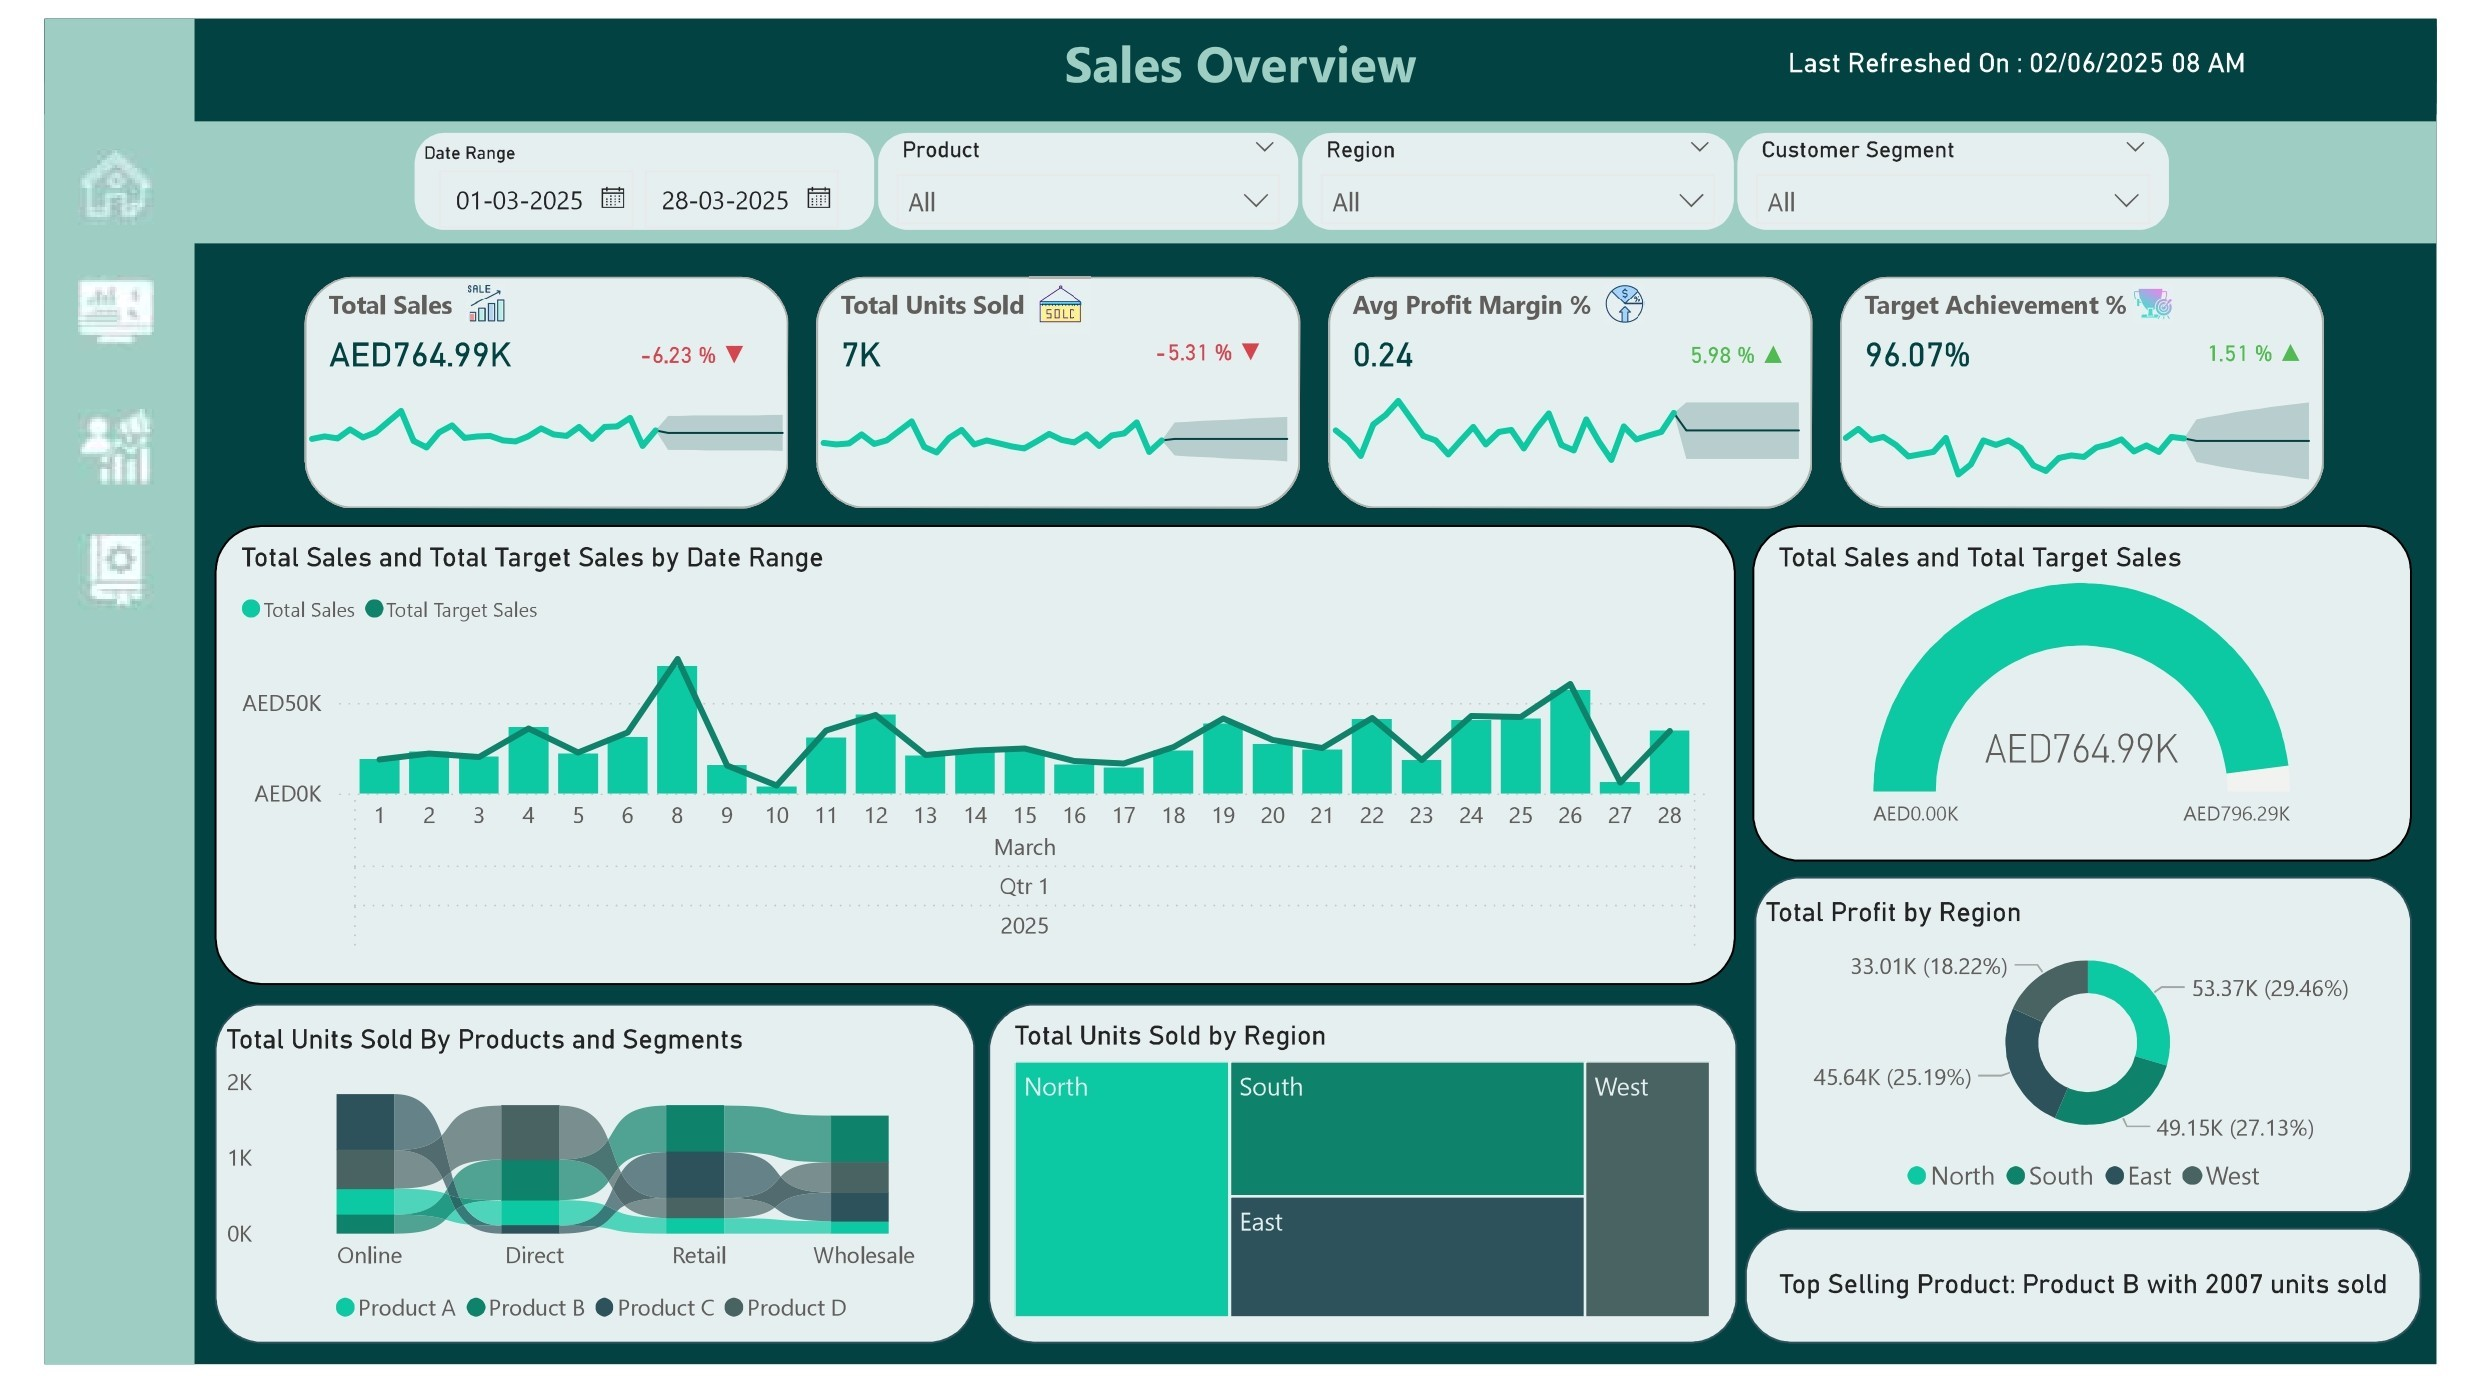

The dashboard page shown, as its layout file describes it:
{"tool":"powerbi","page":{"name":"Sales Overview","canvas":[1280,720],"ordinal":1},"visuals":[{"type":"shape","box":[78.3,55,1201.7,65],"z":0},{"type":"cardVisual","fields":{"Data":["_Measures.Total Sales","_Measures.Total Units Sold","_Measures.Avg Profit Margin","_Measures.Target Achievement %"]},"box":[134.1,132.7,1092,134],"z":0,"group":"g1"},{"type":"group","id":"g1","title":"Group 1","box":[128.4,132.7,1098.1,133.8],"z":1000},{"type":"card","fields":{"Values":["_Measures.Total Sales % Last X Change Icon"]},"box":[304.9,171.7,85.4,19.8],"z":1000,"group":"g1"},{"type":"slicer","title":"Region","fields":{"Values":["Dim_Regions.Region Name"]},"box":[672,60.4,233,53.9],"z":2000},{"type":"lineChart","fields":{"Category":["Dim_Date.Date.Variation.Date Hierarchy.Year"],"Y":["_Measures.Total Sales"]},"box":[128.4,186.3,281.6,64.2],"z":2000,"group":"g1"},{"type":"slicer","fields":{"Values":["Dim_Products.Product"]},"box":[445,60,227,54],"z":3000},{"type":"card","fields":{"Values":["_Measures.Total Units Sold % Last X Change Icon"]},"box":[580.5,170.9,85.4,21.2],"z":3000,"group":"g1"},{"type":"slicer","title":"Date Range","fields":{"Values":["Dim_Date.Date"]},"box":[197,60,248,54],"z":4000},{"type":"lineChart","fields":{"Category":["Dim_Date.Date.Variation.Date Hierarchy.Year"],"Y":["_Measures.Total Units Sold"]},"box":[402.1,188.7,278.5,64.8],"z":4000,"group":"g1"},{"type":"textbox","box":[0,0,1280.4,50.7],"z":5000},{"type":"card","fields":{"Values":["_Measures.Avg Profit Margin % Last X Change Icon"]},"box":[863.6,171.5,85.4,19.8],"z":5000,"group":"g1"},{"type":"lineChart","fields":{"Category":["Dim_Date.Date.Variation.Date Hierarchy.Year"],"Y":["_Measures.Avg Profit Margin %"]},"box":[676.5,188.7,277.8,64.8],"z":6000,"group":"g1"},{"type":"lineStackedColumnComboChart","title":"Total Sales and Total Target Sales by Date Range","fields":{"Category":["Dim_Date.Date.Variation.Date Hierarchy.Year","Dim_Date.Date.Variation.Date Hierarchy.Quarter","Dim_Date.Date.Variation.Date Hierarchy.Month","Dim_Date.Date.Variation.Date Hierarchy.Day"],"Y":["_Measures.Total Sales"],"Y2":["_Measures.Total Target Sales"]},"box":[90.6,270.7,814.4,245.9],"z":6000},{"type":"shape","box":[0,0,79.8,1293.9],"z":7000},{"type":"card","fields":{"Values":["_Measures.Target Achievement % Last X Change Icon"]},"box":[1141.7,170.9,84,19.8],"z":7000,"group":"g1"},{"type":"card","fields":{"Values":["Data Refresh.Last Refresh Date"]},"box":[830.8,3.6,449.2,41.5],"z":8000},{"type":"lineChart","fields":{"Category":["Dim_Date.Date.Variation.Date Hierarchy.Year"],"Y":["_Measures.Target Achievement %"]},"box":[949.6,188.7,277.8,64.8],"z":8000,"group":"g1"},{"type":"gauge","fields":{"Y":["_Measures.Total Sales"],"MaxValue":["_Measures.Total Target Sales"]},"box":[914,270.7,352.7,180.1],"z":9000},{"type":"actionButton","box":[14,64.7,50.7,49.6],"z":10000},{"type":"actionButton","box":[14,132.7,49.6,48.5],"z":11000},{"type":"actionButton","box":[14,203.9,49.6,49.6],"z":12000},{"type":"actionButton","box":[14,270.7,49.6,50.7],"z":13000},{"type":"slicer","title":"Region","fields":{"Values":["Dim_Customer_Segments.Customer Segment"]},"box":[905,60.4,233,53.9],"z":14000},{"type":"treemap","title":"Total Units Sold by Region","fields":{"Group":["Dim_Regions.Region"],"Values":["_Measures.Total Units Sold"]},"box":[504.6,527,400.9,182],"z":15000},{"type":"ribbonChart","title":"Total Units Sold By Products and Segments","fields":{"Category":["Dim_Customer_Segments.Customer Segment"],"Series":["Dim_Products.Product"],"Y":["_Measures.Total Units Sold"]},"box":[90.8,527,407.4,182],"z":16000},{"type":"donutChart","fields":{"Category":["Dim_Regions.Region"],"Y":["_Measures.Total Profit"]},"box":[914.7,459,352.7,180.1],"z":17000},{"type":"card","fields":{"Values":["_Measures.Top Product Sold"]},"box":[910.4,647.2,361.3,61.5],"z":18000},{"type":"image","box":[217,137,37,30],"z":20000},{"type":"image","box":[512,131,62,43],"z":21000},{"type":"image","box":[815,137,60,31],"z":22000},{"type":"image","box":[1105,137,46,31],"z":23000}]}

Visuals, with their boxes in screenshot pixels (x1, y1, x2, y2):
shape: 186:117:2451:239
cardVisual - _Measures.Total Sales x _Measures.Total Units Sold: 292:263:2350:516
"Group 1" group: 281:263:2351:515
card - _Measures.Total Sales % Last X Change Icon: 613:337:774:374
"Region" slicer: 1305:127:1745:228
lineChart - Dim_Date.Date.Variation.Date Hierarchy.Year x _Measures.Total Sales: 281:364:812:485
slicer - Dim_Products.Product: 878:126:1305:228
card - _Measures.Total Units Sold % Last X Change Icon: 1133:335:1294:375
"Date Range" slicer: 410:126:878:228
lineChart - Dim_Date.Date.Variation.Date Hierarchy.Year x _Measures.Total Units Sold: 797:369:1322:491
textbox: 39:13:2452:108
card - _Measures.Avg Profit Margin % Last X Change Icon: 1667:336:1828:374
lineChart - Dim_Date.Date.Variation.Date Hierarchy.Year x _Measures.Avg Profit Margin %: 1314:369:1838:491
"Total Sales and Total Target Sales by Date Range" lineStackedColumnComboChart: 210:523:1745:987
shape: 39:13:189:1375
card - _Measures.Target Achievement % Last X Change Icon: 2191:335:2349:372
card - Data Refresh.Last Refresh Date: 1605:20:2451:98
lineChart - Dim_Date.Date.Variation.Date Hierarchy.Year x _Measures.Target Achievement %: 1829:369:2352:491
gauge - _Measures.Total Sales x _Measures.Total Target Sales: 1762:523:2426:863
actionButton: 65:135:161:228
actionButton: 65:263:159:354
actionButton: 65:397:159:491
actionButton: 65:523:159:619
"Region" slicer: 1745:127:2184:228
"Total Units Sold by Region" treemap: 990:1006:1746:1349
"Total Units Sold By Products and Segments" ribbonChart: 210:1006:978:1349
donutChart - Dim_Regions.Region x _Measures.Total Profit: 1763:878:2428:1218
card - _Measures.Top Product Sold: 1755:1233:2436:1349
image: 448:271:518:328
image: 1004:260:1121:341
image: 1575:271:1688:330
image: 2122:271:2208:330
